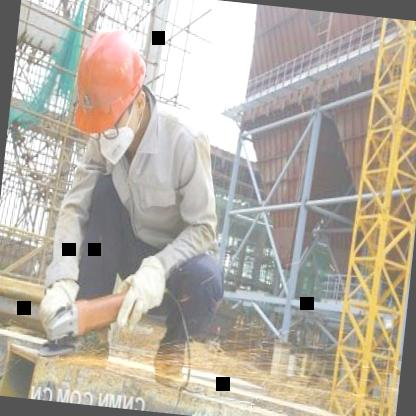helmet: (59, 13, 164, 167)
